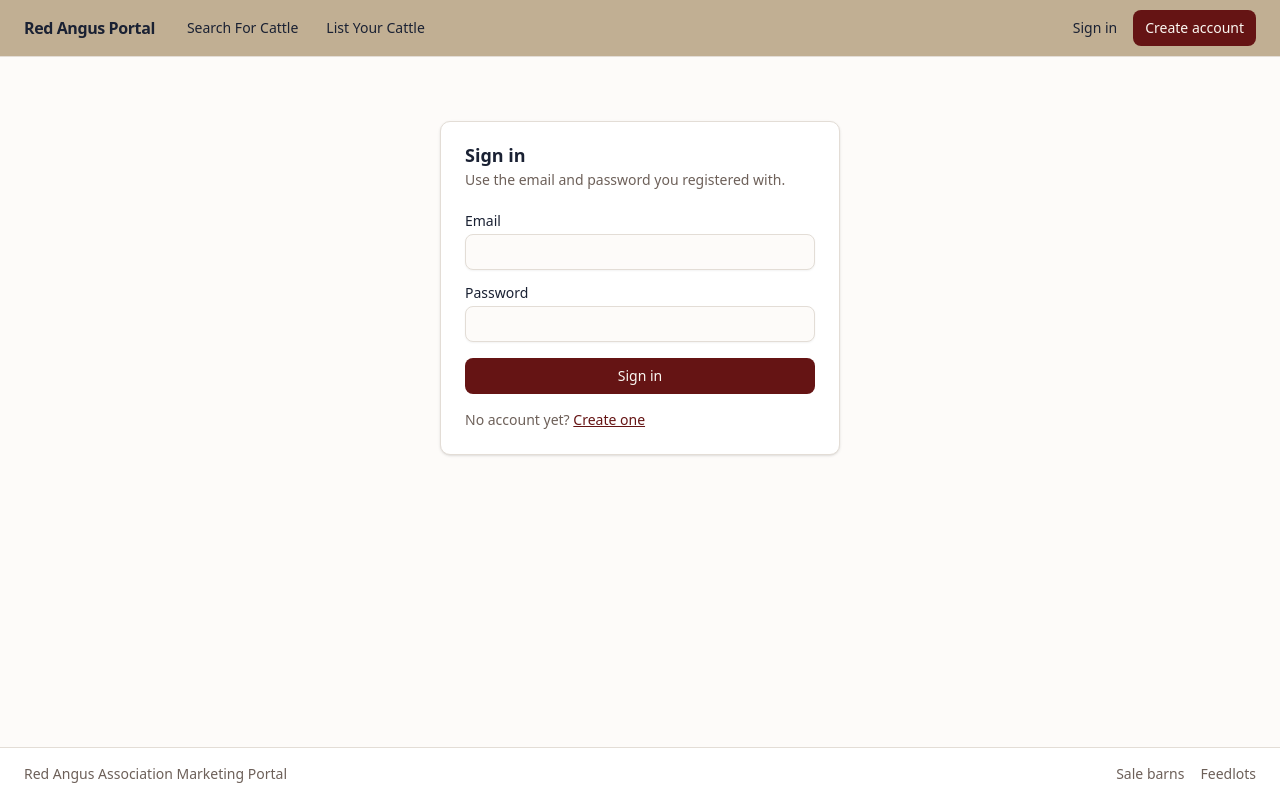
Scenario: auth screens › shows a message on bad credentials
This screenshot has width=1280, height=800.
Type "a@b.com" into the field labelled "Email".
click(640, 252); type("a@b.com")  # box [465,234,815,270]
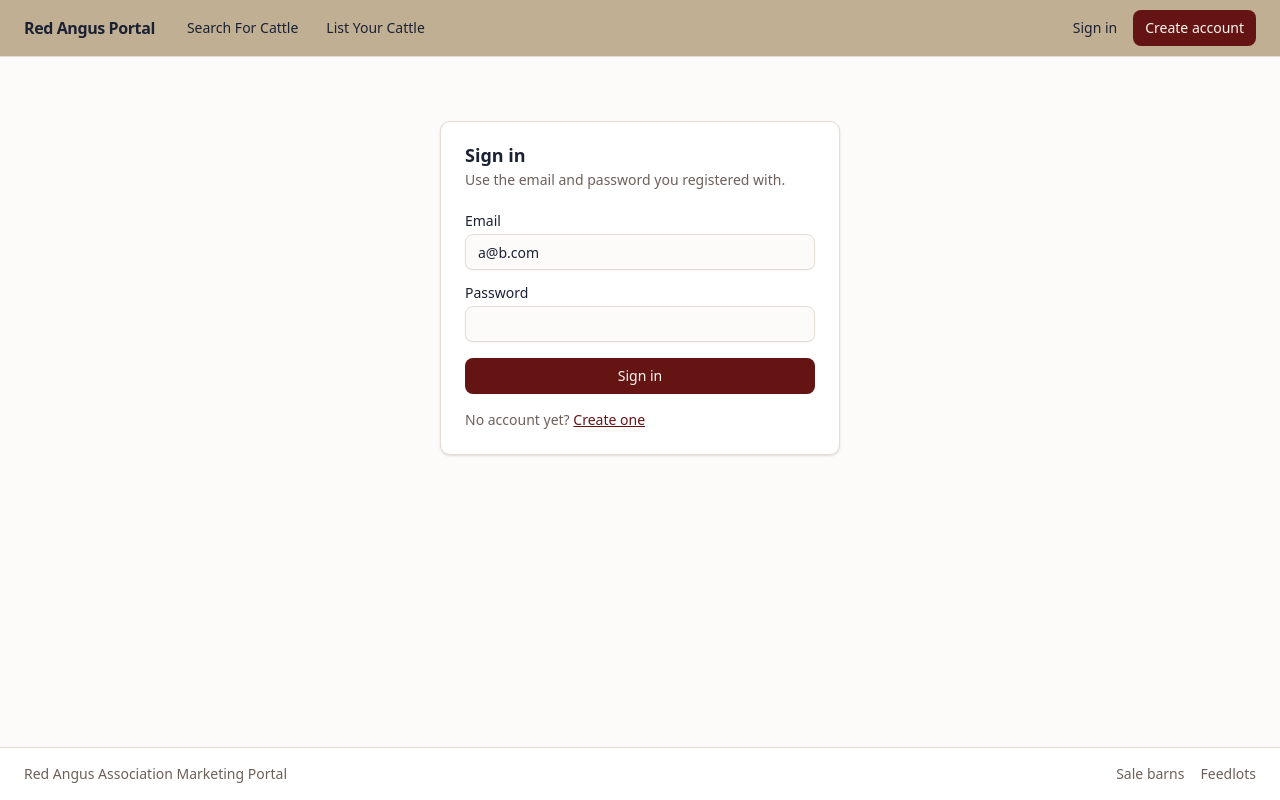
Type "wrongpassword" into the password field labelled "Password".
click(640, 324); type("wrongpassword")  # box [465,306,815,342]
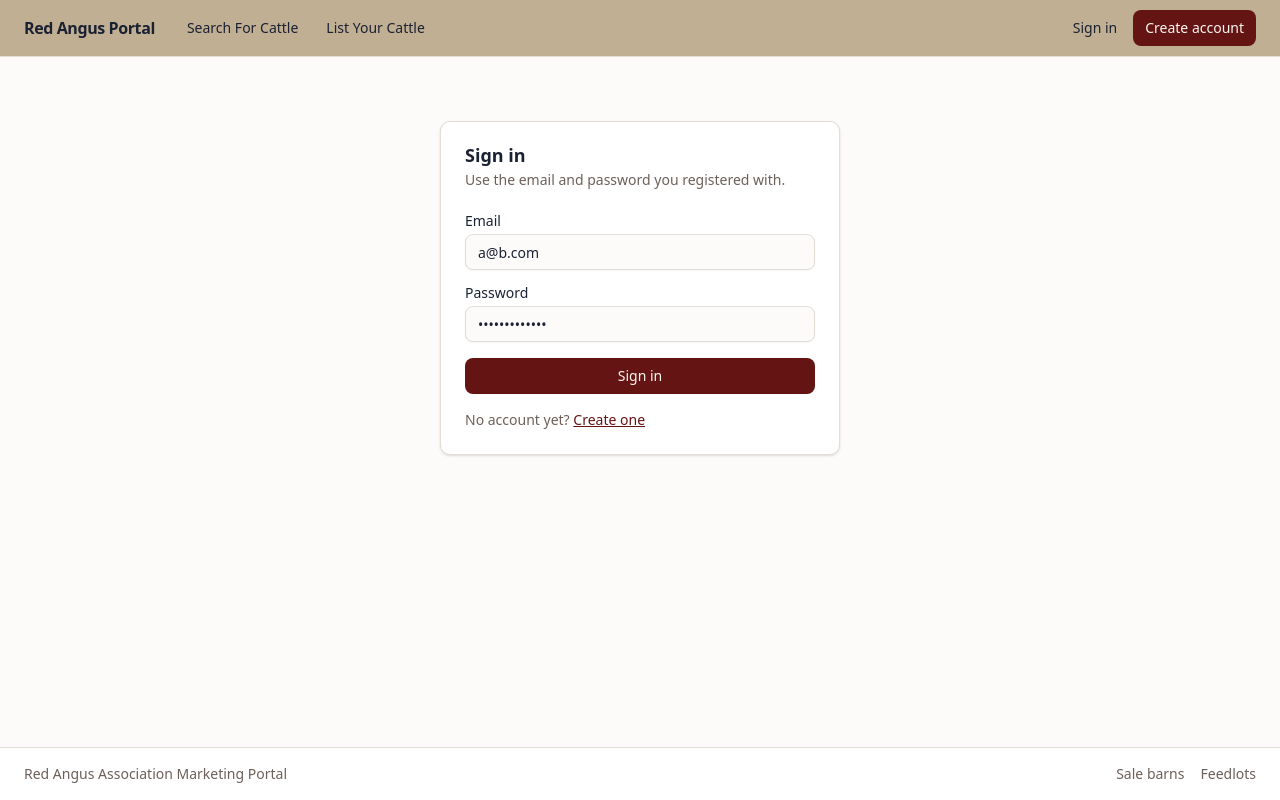
Click the button "Sign in".
click(640, 376)  # box [465,358,815,394]
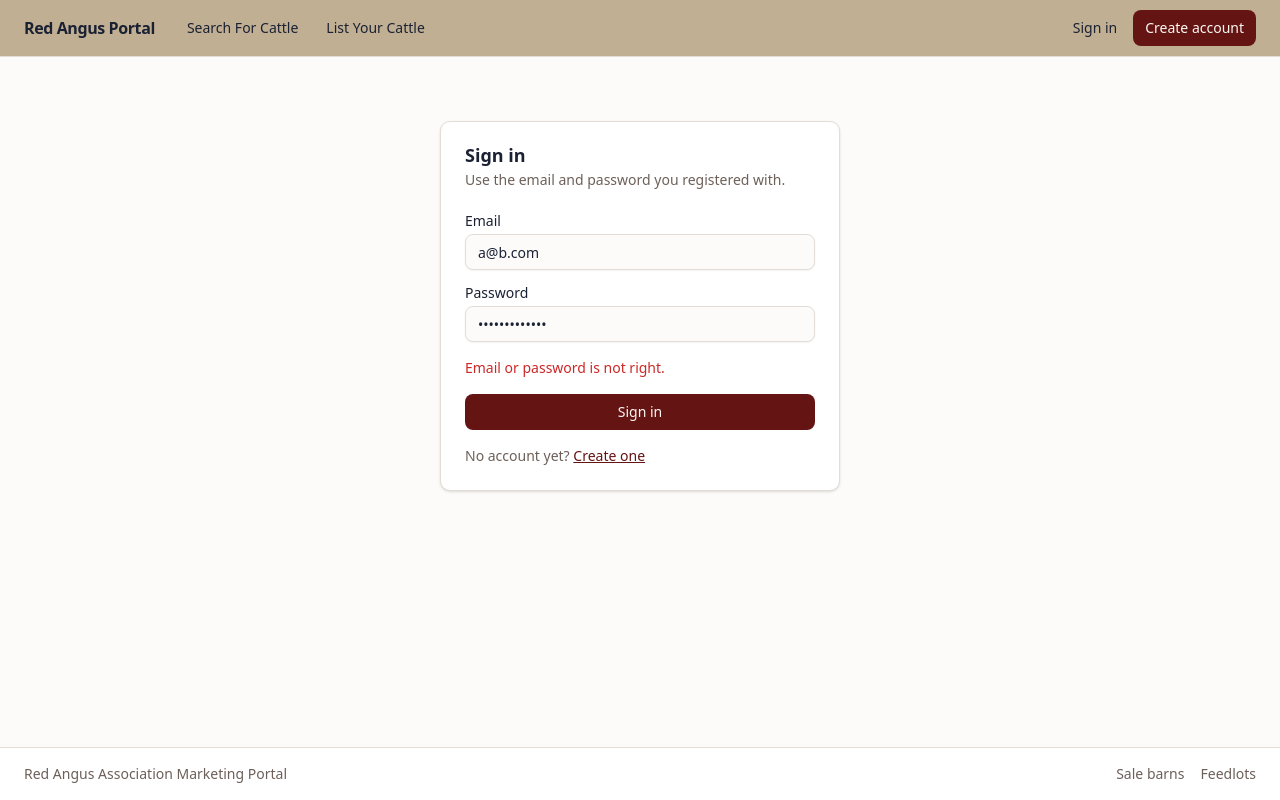
Result: the message shows "not right" at [465,358,665,377]
